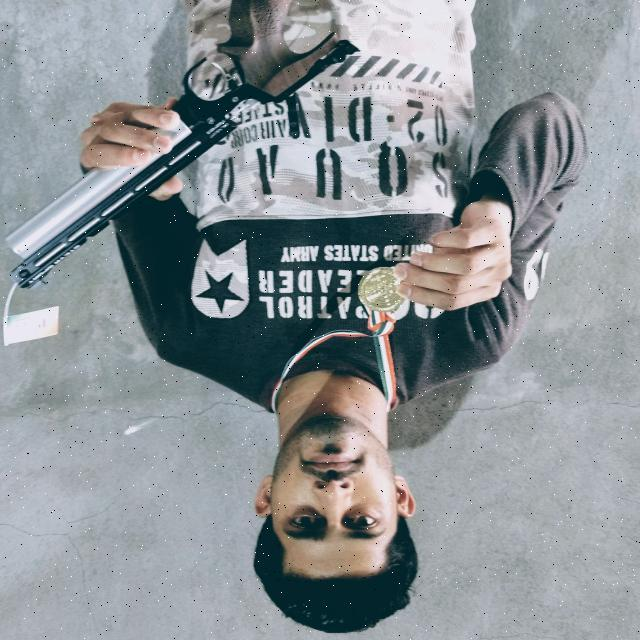gun: (0, 0, 369, 292)
